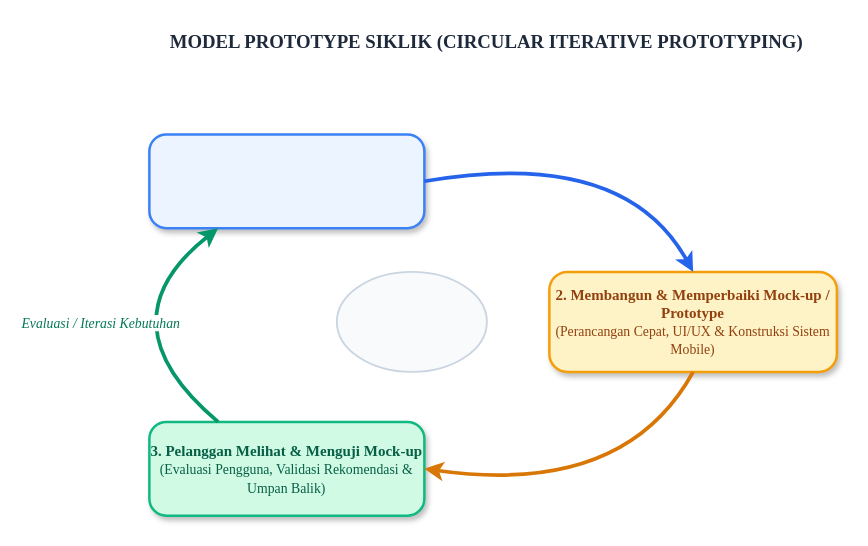
Image size: 868x546. Some labels were removed from this diagram. The centre of each missing label's shape, as x and y in pixels:
1. Mendengarkan Pelanggan (Pengumpulan Data & Analisis Kebutuhan Sistem): point (287, 183)
PROSES ITERATIF (Berulang hingga sistem disepakati): point (411, 321)
